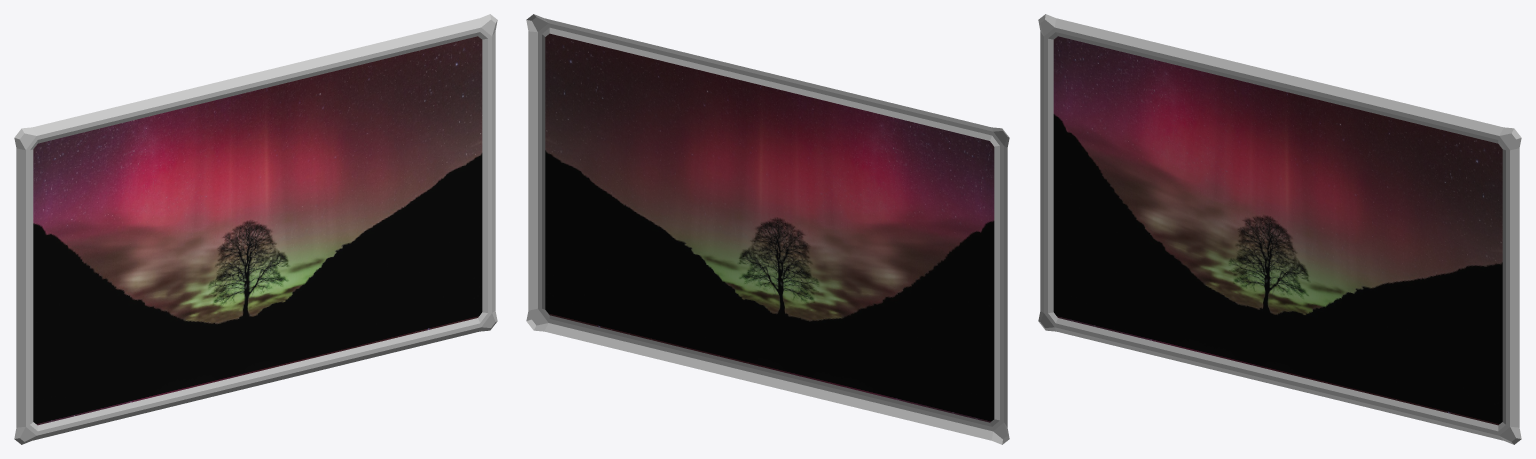
The model's file is 灵活的挂画.fbx.
3 views of the same model, side by side, from view 1: azimuth 30°, elevation 25°; view 2: azimuth 150°, elevation 25°; view 3: azimuth 330°, elevation 25° (orthographic).
Visible parts, largest first — view 1: 灵活的挂画; view 2: 灵活的挂画; view 3: 灵活的挂画.
Boxes of the visible parts, box(x1,y1,x2,y2) form: 灵活的挂画: box(14, 14, 497, 444); 灵活的挂画: box(526, 14, 1009, 444); 灵活的挂画: box(1038, 14, 1521, 444).
Bounding box in the file's own units: 150 × 94.12 × 1.61.
